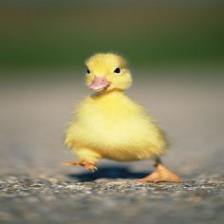yellow: (62, 53, 180, 182)
